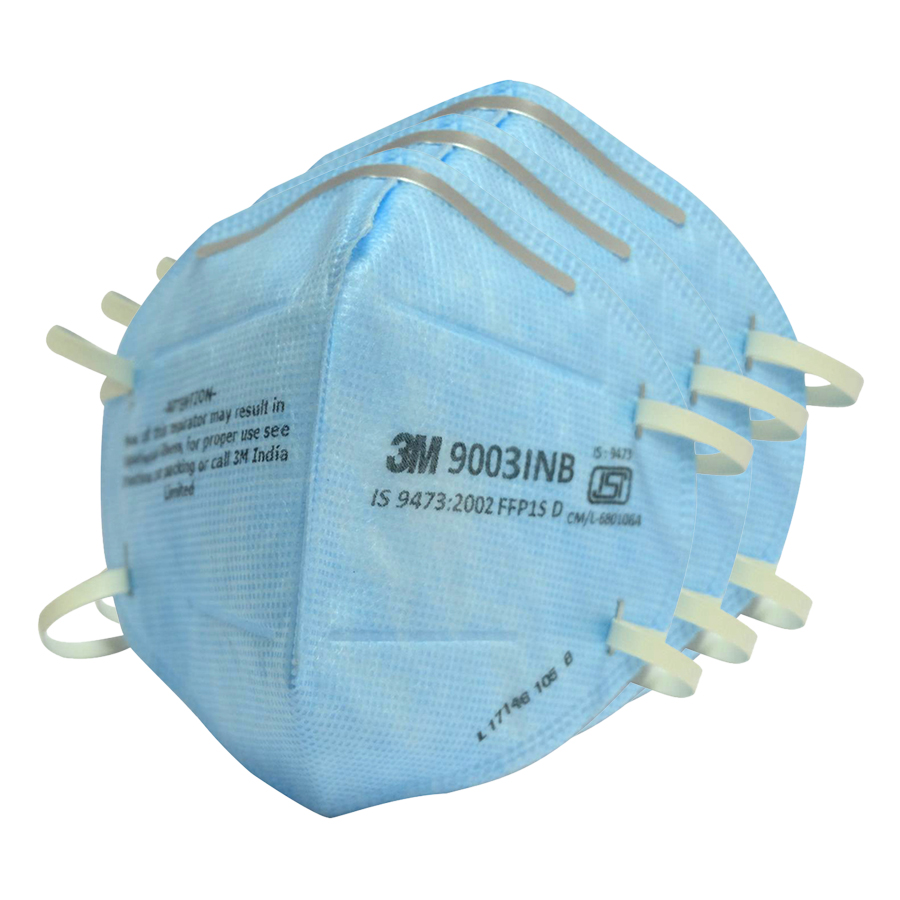3M: (380, 426, 445, 480)
